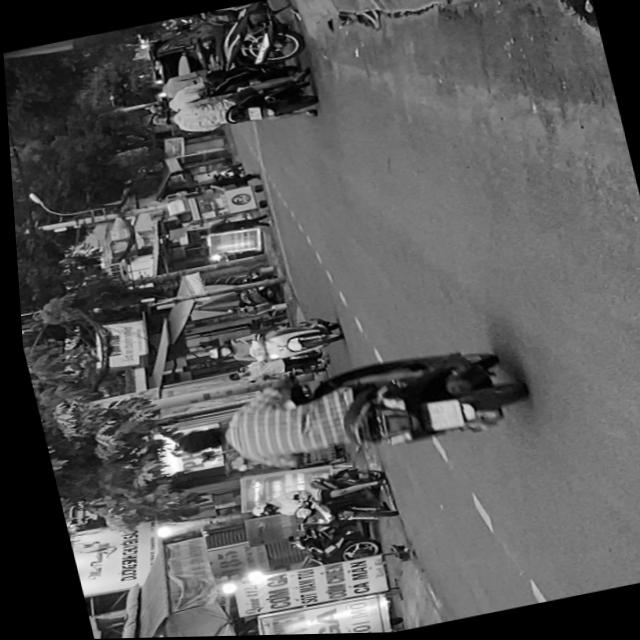helmet: (242, 501, 272, 519), (146, 110, 173, 129)
licenseplate: (154, 333, 533, 496), (140, 70, 321, 148), (236, 462, 393, 545)
motorcyclist: (167, 423, 225, 460)
nohelmet: (419, 397, 460, 433), (244, 107, 261, 122)
